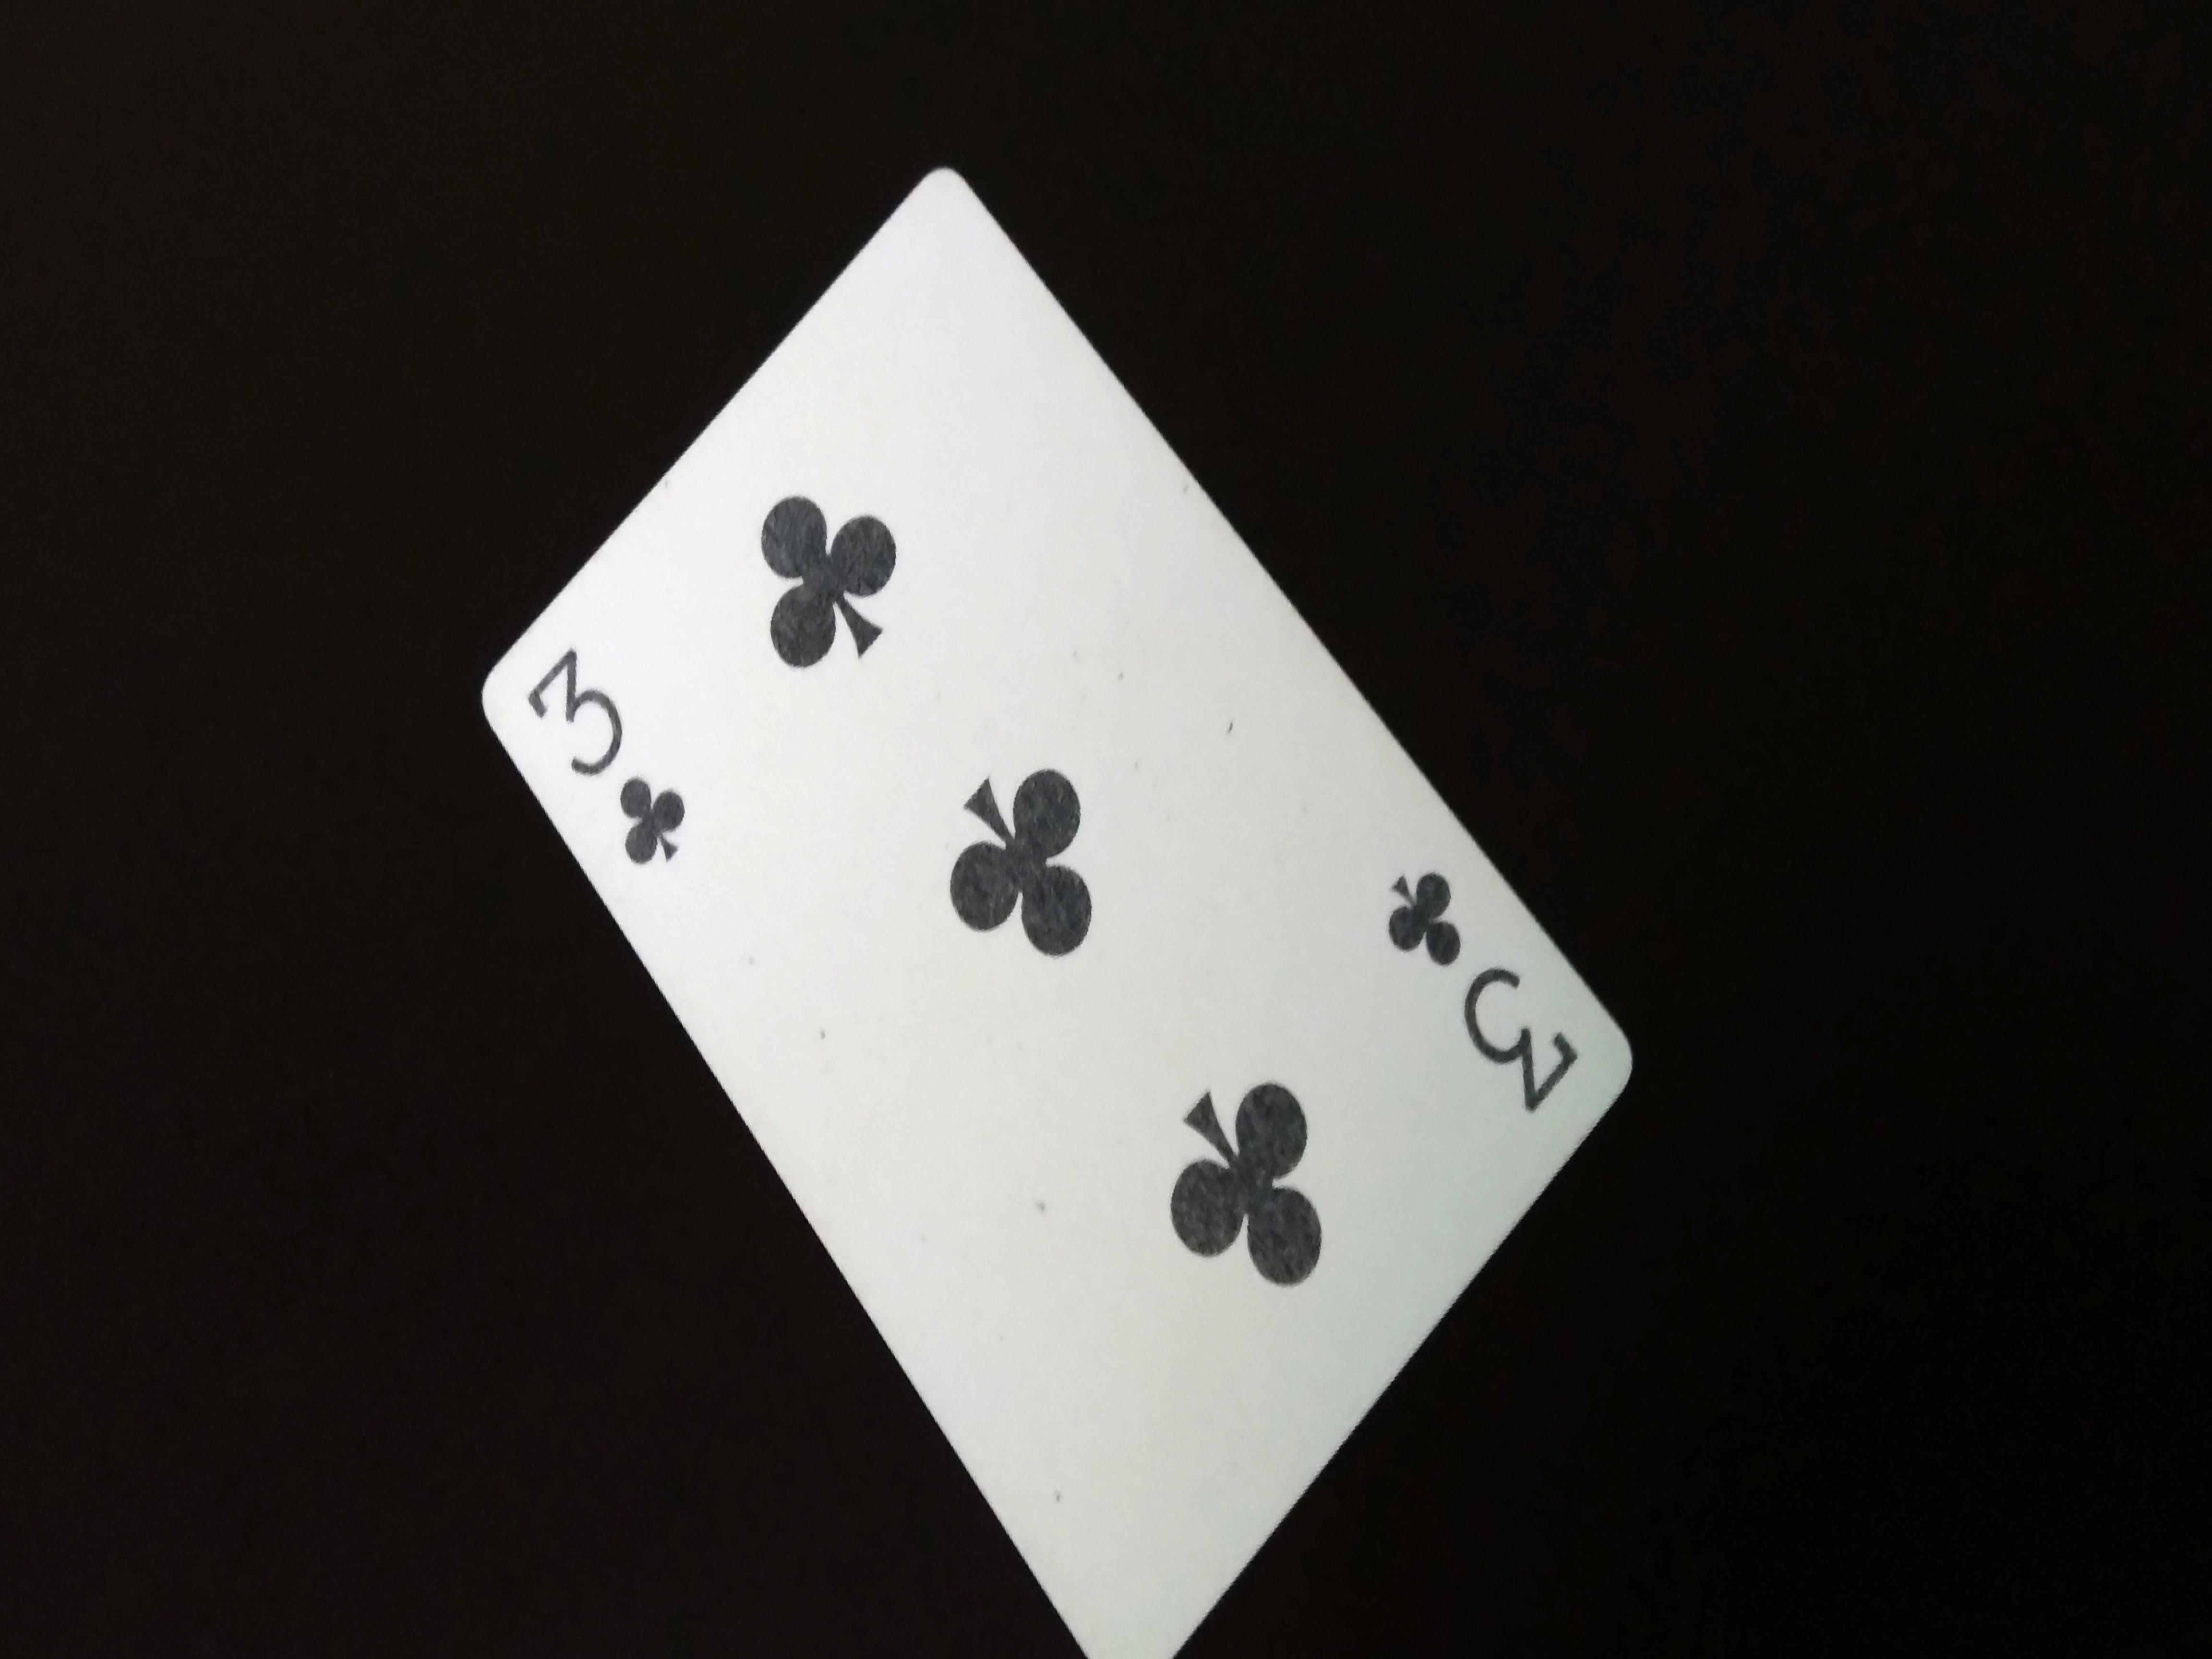3C: (512, 638, 707, 871)
